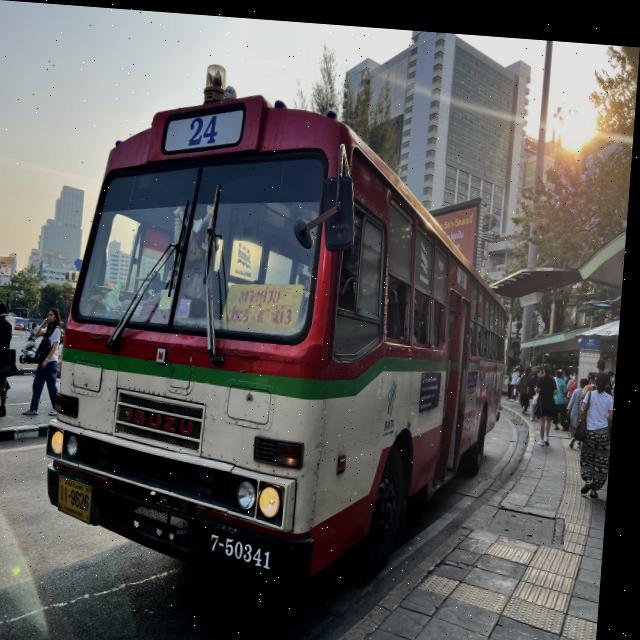BMTA-bus: (45, 81, 526, 605)
Bus-Line-Number: (183, 107, 228, 147)
Destination-Sign-Normal-Expressway: (230, 277, 307, 322)
